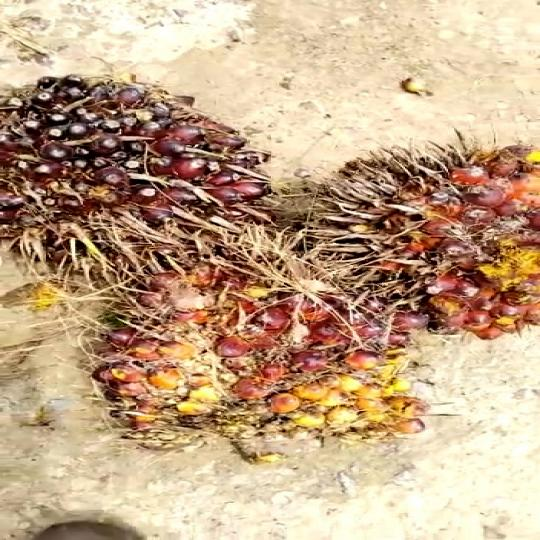masak: (77, 225, 449, 462), (0, 66, 308, 281)
